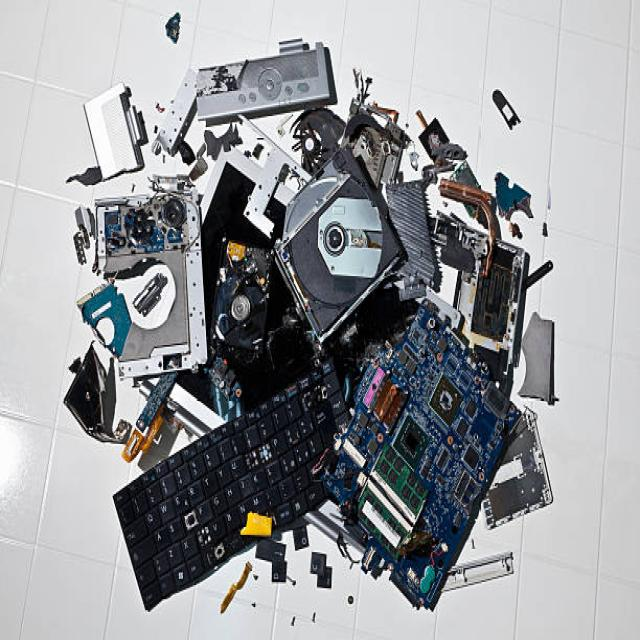metal: (58, 72, 516, 588)
